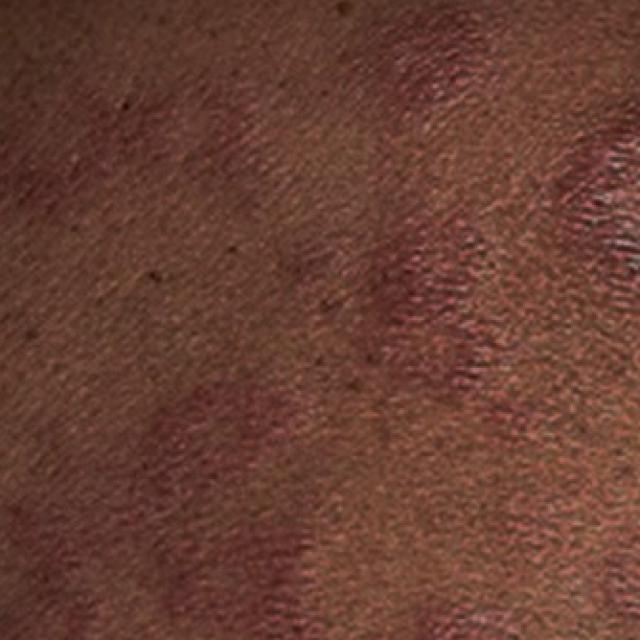Leprosy: (292, 10, 640, 450), (0, 387, 352, 640), (0, 0, 284, 257), (391, 559, 640, 640)
